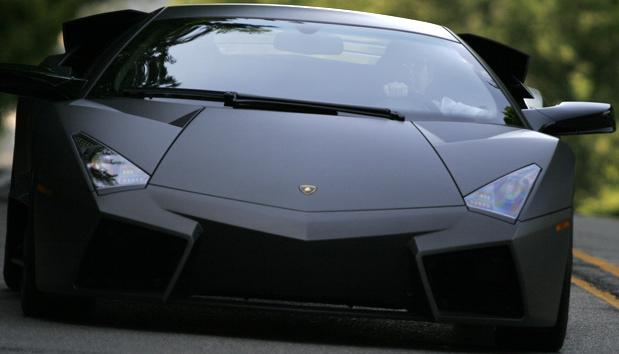front_view: (52, 90, 578, 351)
headlight: (63, 125, 152, 198)
